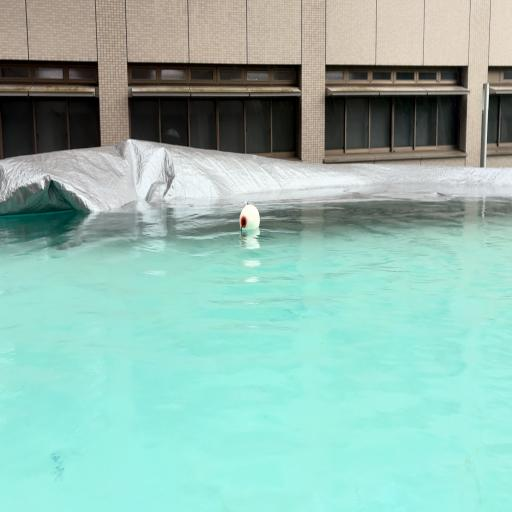white buoy: (239, 204, 260, 230)
